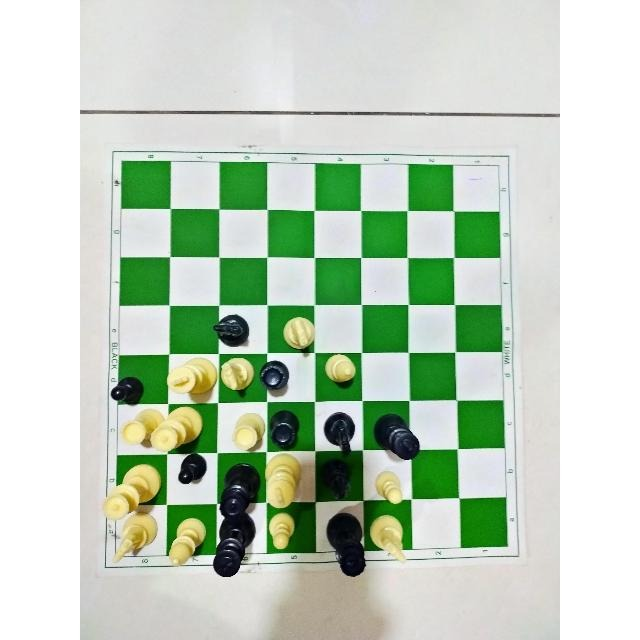black-bishop: (319, 458, 354, 501)
black-king: (211, 516, 254, 579), (374, 412, 421, 464)
black-knight: (323, 410, 355, 454), (212, 310, 251, 345)
black-pawn: (176, 452, 208, 486), (108, 375, 142, 405)
black-queen: (327, 515, 367, 581), (217, 462, 258, 524)
black-rook: (271, 408, 299, 449), (257, 361, 285, 391)
white-bishop: (166, 516, 206, 568), (322, 352, 356, 386)
white-king: (165, 356, 214, 398), (266, 457, 301, 511)
white-knight: (110, 510, 158, 565), (371, 514, 410, 566), (221, 355, 251, 396), (282, 313, 313, 351)
white-pawn: (372, 469, 403, 507), (267, 513, 293, 553)
white-queen: (101, 465, 159, 523), (151, 406, 199, 453)
white-rook: (122, 407, 161, 446), (229, 414, 260, 452)
